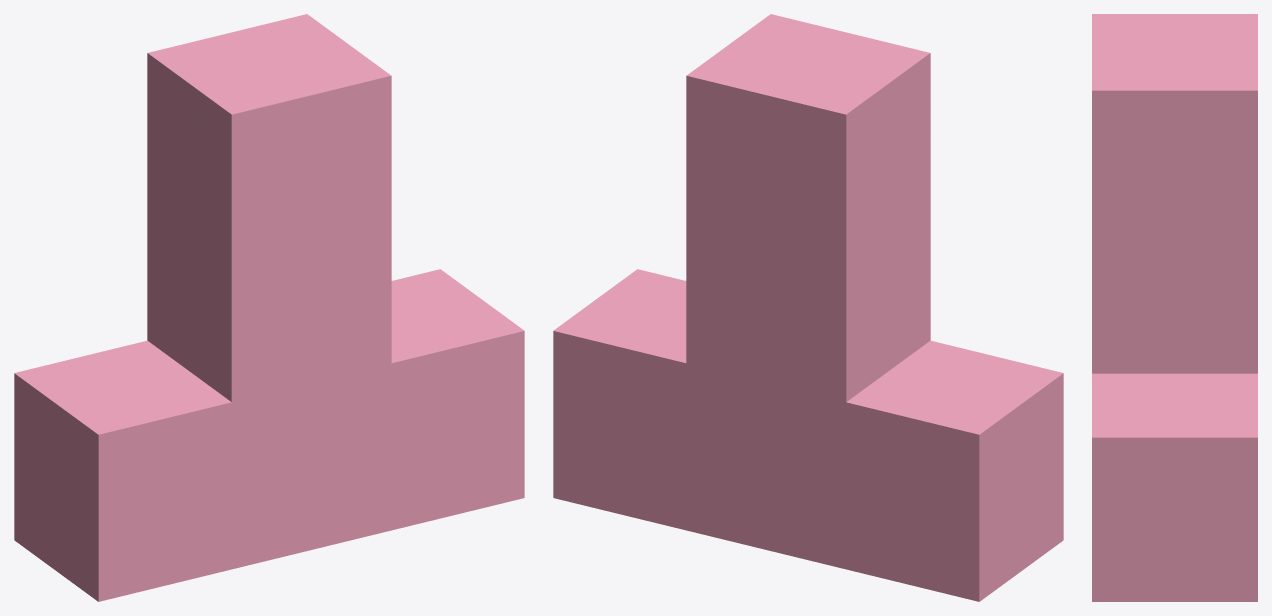
3 renders of one model, left to right at view 1: azimuth 30°, elevation 25°; view 2: azimuth 150°, elevation 25°; view 3: azimuth 270°, elevation 25°, orthographic.
Parts seen in each view (by area): view 1: mesh_id33, mesh_id27; view 2: mesh_id33, mesh_id27; view 3: mesh_id33, mesh_id27.
Part boxes in pixels (<box>): mesh_id33: <box>147,14,391,560</box>; mesh_id27: <box>14,269,524,601</box>; mesh_id33: <box>686,14,930,560</box>; mesh_id27: <box>553,269,1063,601</box>; mesh_id33: <box>1092,14,1257,373</box>; mesh_id27: <box>1092,373,1257,601</box>.
Bounding box in the file's own units: 0.2448 × 0.2496 × 0.0839.
1 material, 1 textured.
